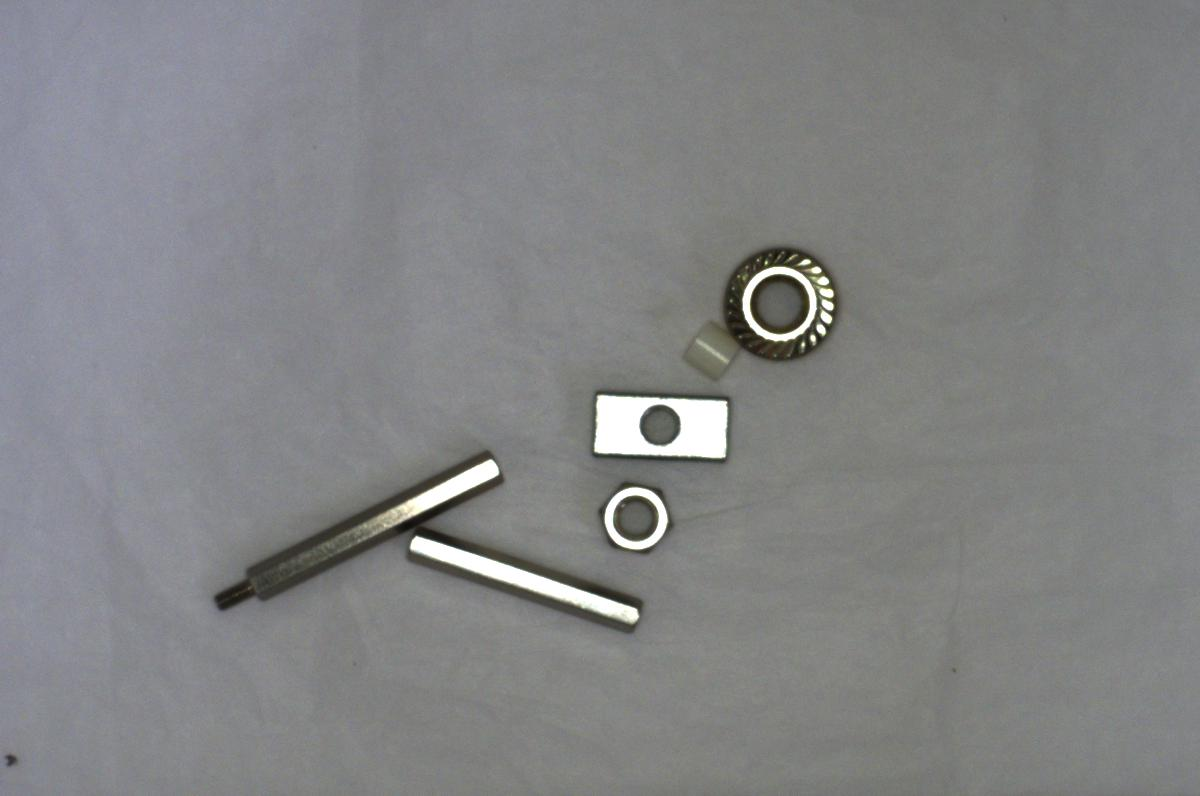Flange nut: (708, 245, 861, 360)
Hexagon nut: (594, 474, 678, 558)
Hexagonal steel column: (202, 443, 511, 614)
Plastic cushion pillar: (673, 314, 754, 385)
Rectangular nut: (584, 382, 737, 468)
Spring washer: (406, 528, 645, 635)
